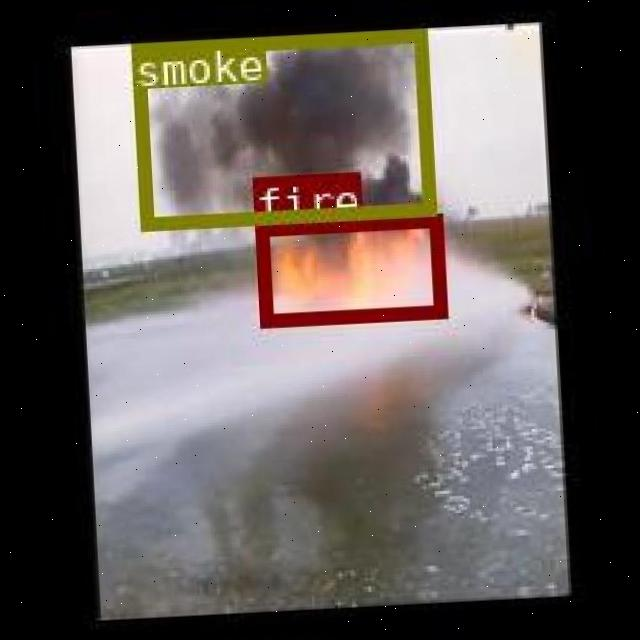fire: (254, 213, 443, 325)
smoke: (132, 28, 434, 227)
